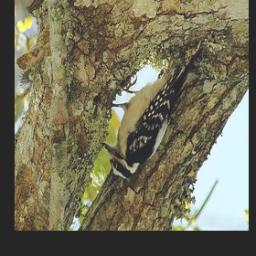Woodpecker: (100, 43, 204, 187)
